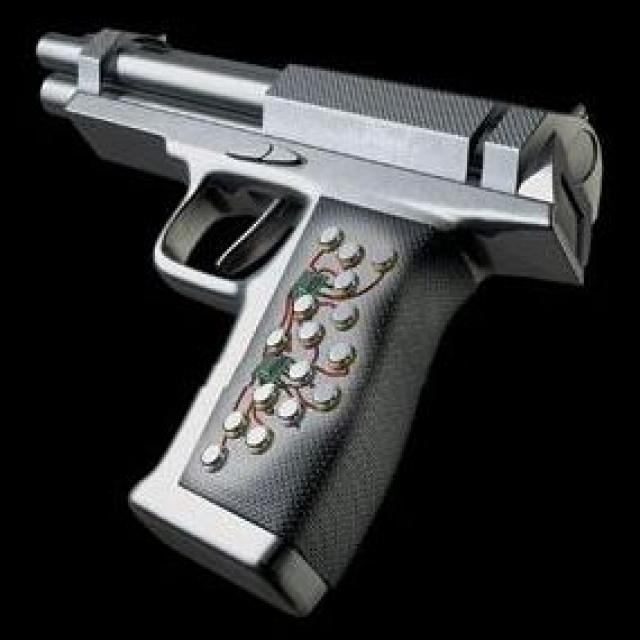gun: (19, 23, 612, 618)
